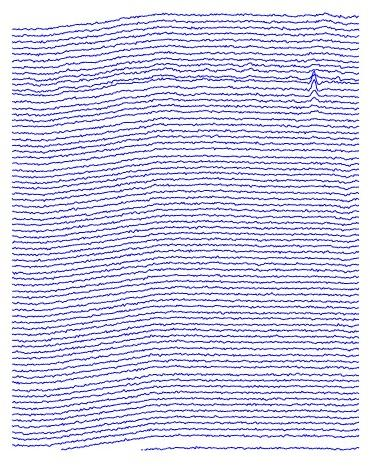defect: (306, 62, 323, 101)
